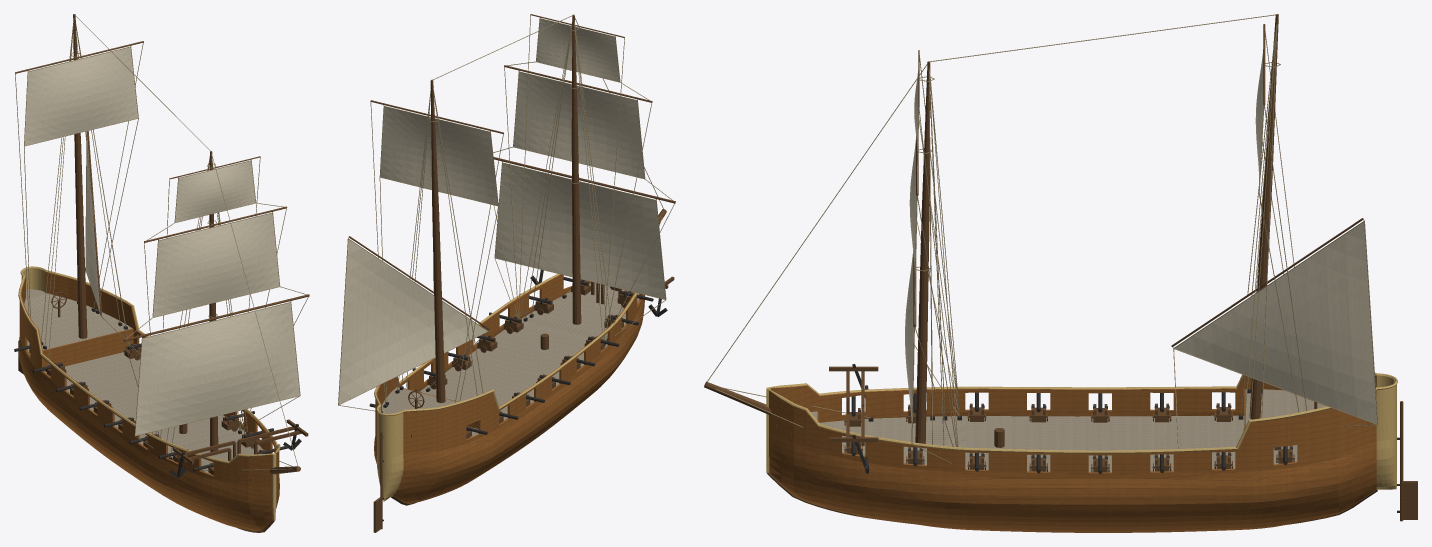
The picture shows the model from 3 angles, left to right: view 1: azimuth 30°, elevation 25°; view 2: azimuth 150°, elevation 25°; view 3: azimuth 270°, elevation 25°; orthographic projection. The views are drawn at different scales.
Parts seen in each view (by area): view 1: lod2_fore_square_00, lod2_hull_shell_starboard, lod2_fore_square_01, lod2_main_square_00, lod2_main_deck, lod2_fore_square_02, lod2_castle_deck_0, lod2_hull_shell_port, lod2_main, lod2_castle_bulkhead_0_1, lod2_main_lateen_01, lod2_gunwale_starboard (+7 smaller); view 2: lod2_fore_square_00, lod2_hull_shell_starboard, lod2_main_lateen_01, lod2_fore_square_01, lod2_main_deck, lod2_main_square_00, lod2_fore_square_02, lod2_hull_shell_port, lod2_main, lod2_fore, lod2_stern_closure, lod2_castle_deck_0 (+2 smaller); view 3: lod2_hull_shell_port, lod2_main_lateen_01, lod2_main_deck, lod2_hull_shell_starboard, lod2_fore, lod2_main, lod2_stern_closure, lod2_gunwale_port, lod2_castle_deck_0, lod2_gunwale_starboard, lod2_fore_square_00.
Boxes of the visible parts, box(x1,y1,x2,y2) form: lod2_fore_square_00: box(135, 302, 299, 435); lod2_hull_shell_starboard: box(18, 276, 272, 530); lod2_fore_square_01: box(153, 213, 279, 317); lod2_main_square_00: box(24, 47, 138, 145); lod2_main_deck: box(27, 340, 262, 473); lod2_fore_square_02: box(175, 161, 255, 222); lod2_castle_deck_0: box(24, 289, 132, 350); lod2_hull_shell_port: box(44, 271, 279, 508); lod2_main: box(73, 14, 87, 338); lod2_castle_bulkhead_0_1: box(42, 328, 133, 371); lod2_main_lateen_01: box(85, 131, 100, 312); lod2_gunwale_starboard: box(18, 275, 272, 463); lod2_fore_square_00: box(495, 163, 665, 299); lod2_hull_shell_starboard: box(392, 292, 644, 503); lod2_main_lateen_01: box(338, 239, 487, 404); lod2_fore_square_01: box(513, 72, 644, 178); lod2_main_deck: box(383, 283, 639, 459); lod2_main_square_00: box(380, 106, 498, 205); lod2_fore_square_02: box(536, 19, 619, 81); lod2_hull_shell_port: box(374, 274, 590, 463); lod2_main: box(430, 80, 445, 402); lod2_fore: box(571, 14, 581, 324); lod2_stern_closure: box(377, 406, 403, 501); lod2_castle_deck_0: box(382, 387, 457, 437); lod2_hull_shell_port: box(769, 390, 1376, 532); lod2_main_lateen_01: box(1175, 222, 1377, 423); lod2_main_deck: box(819, 415, 1297, 472); lod2_hull_shell_starboard: box(770, 375, 1376, 422); lod2_fore: box(915, 61, 930, 443); lod2_main: box(1249, 14, 1278, 419); lod2_stern_closure: box(1376, 375, 1396, 489); lod2_gunwale_port: box(768, 387, 1377, 453); lod2_castle_deck_0: box(1246, 389, 1326, 425); lod2_gunwale_starboard: box(768, 372, 1376, 395); lod2_fore_square_00: box(905, 251, 913, 427).
Bounding box in the file's own units: 11.68 × 24.4 × 30.52.
Materials: 7 (7 with a texture image).
